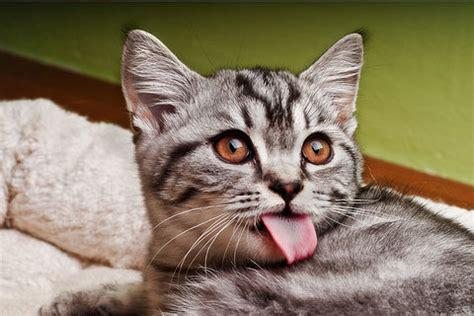cat: (41, 31, 473, 316)
